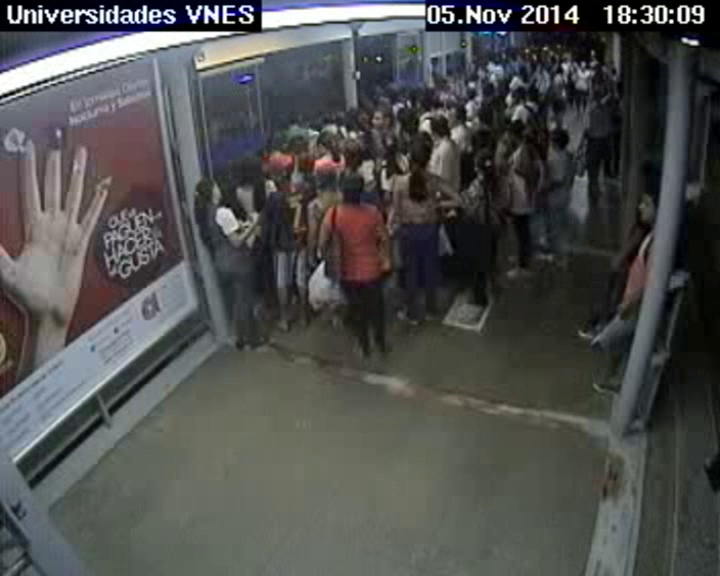person: (636, 188, 666, 223), (405, 138, 436, 170), (338, 172, 366, 202), (193, 179, 223, 207), (472, 154, 500, 181), (238, 155, 265, 182), (267, 161, 294, 188), (504, 119, 528, 147), (469, 129, 495, 154), (341, 141, 365, 165), (314, 132, 338, 156), (633, 158, 656, 183), (427, 116, 451, 139), (219, 180, 241, 204), (311, 175, 335, 197), (370, 108, 391, 130), (549, 129, 570, 150), (287, 136, 308, 157), (477, 106, 496, 126), (446, 106, 466, 125), (397, 108, 417, 127), (265, 134, 283, 155), (380, 134, 399, 153), (287, 111, 303, 128), (510, 87, 526, 103), (322, 112, 338, 127), (354, 136, 369, 151), (483, 81, 497, 96), (356, 110, 370, 125), (416, 101, 430, 115), (474, 65, 487, 78), (395, 89, 408, 102), (515, 65, 527, 79), (591, 86, 602, 99), (606, 83, 617, 96), (465, 79, 477, 89), (531, 52, 542, 62), (414, 89, 423, 101), (486, 54, 496, 64), (467, 91, 477, 101), (588, 49, 599, 58), (579, 59, 588, 69), (509, 51, 518, 60), (500, 51, 509, 60), (523, 47, 531, 56), (563, 53, 571, 61), (599, 64, 607, 72), (541, 44, 548, 51), (556, 68, 563, 75), (571, 61, 578, 68), (554, 54, 560, 62), (548, 50, 554, 57)
